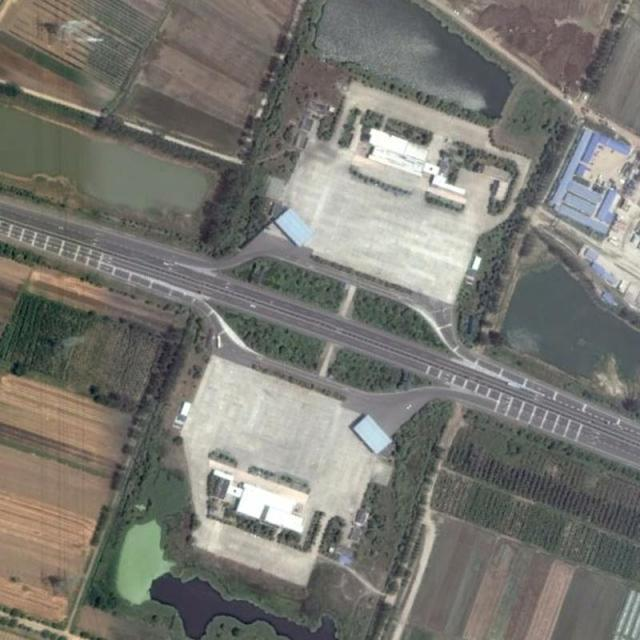vehicle: (215, 333, 222, 348)
